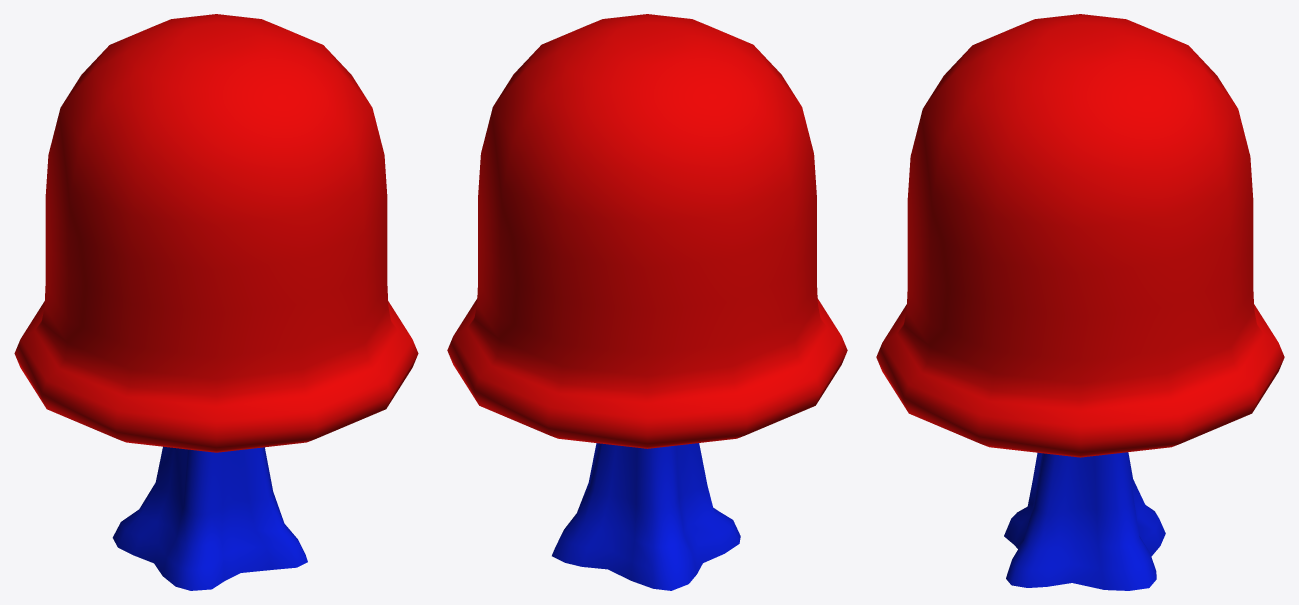
File: m6bo_belltree.fbx
The picture shows the model from 3 angles, left to right: view 1: azimuth 30°, elevation 25°; view 2: azimuth 150°, elevation 25°; view 3: azimuth 270°, elevation 25°; orthographic projection. The views are drawn at different scales.
Parts seen in each view (by area): view 1: Bell, Stump; view 2: Bell, Stump; view 3: Bell, Stump.
Part boxes in pixels (bbox=[...]): Bell: bbox=[14, 14, 418, 452]; Stump: bbox=[112, 446, 307, 590]; Bell: bbox=[447, 14, 847, 448]; Stump: bbox=[552, 443, 740, 590]; Bell: bbox=[876, 14, 1284, 457]; Stump: bbox=[1004, 452, 1165, 590].
Bounding box in the file's own units: 478 × 670 × 478.
